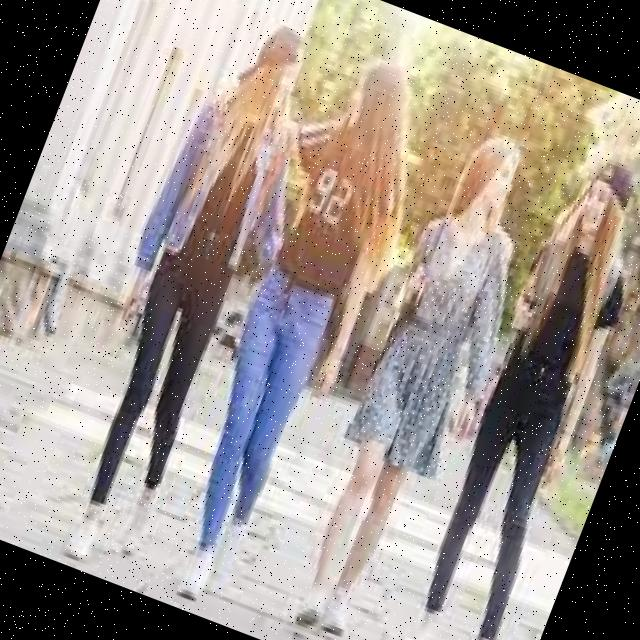Person: (21, 4, 353, 587), (128, 44, 454, 622), (277, 123, 571, 640), (380, 142, 640, 640)
